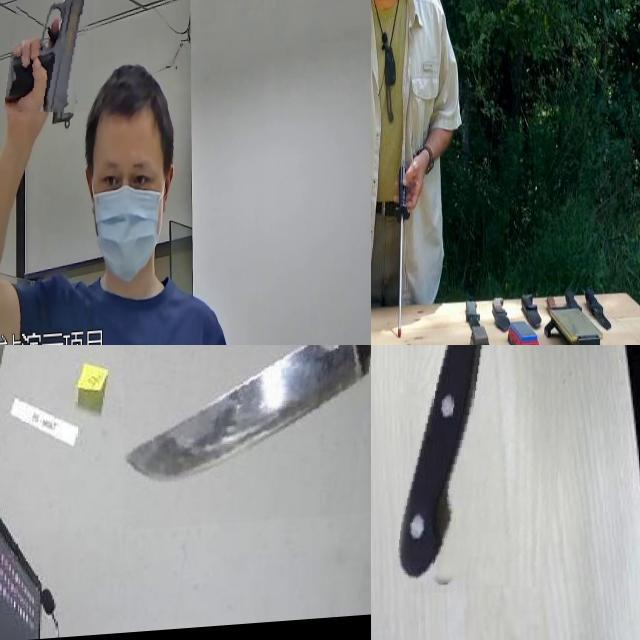-: (124, 345, 371, 534), (409, 345, 591, 599), (371, 190, 399, 261)
gun-knife-thesis - v11 Yolov5 augmented: (9, 0, 92, 117)
